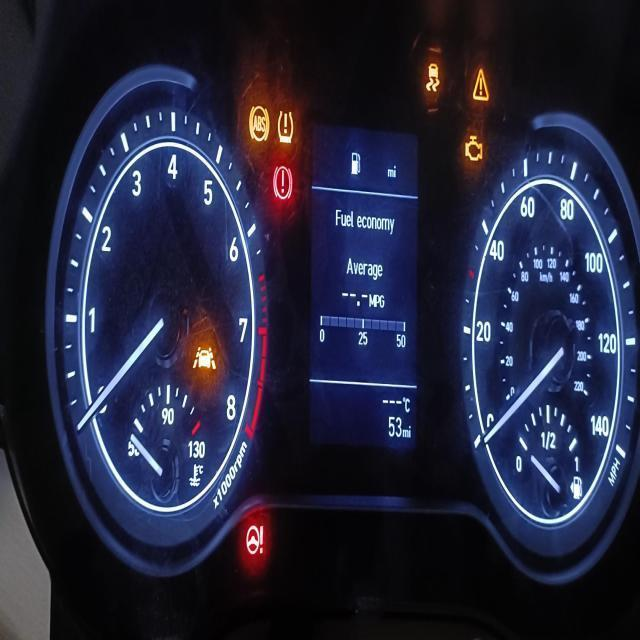Electronic Power Steering: (243, 518, 269, 564)
